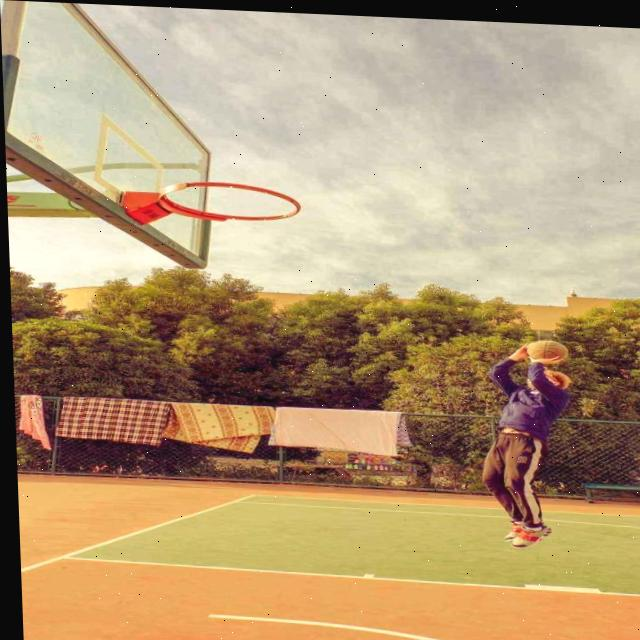basketball: (524, 338, 570, 362)
hoop: (158, 177, 305, 230)
